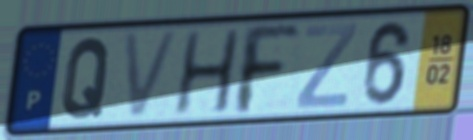6: (360, 17, 414, 108)
F: (234, 22, 303, 118)
H: (170, 26, 243, 118)
Q: (59, 34, 114, 122)
V: (120, 27, 184, 123)
Z: (292, 21, 360, 111)
